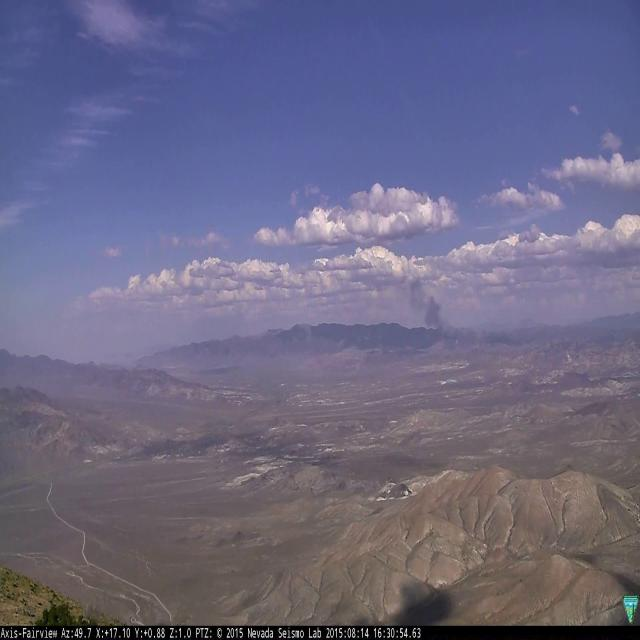smoke: (406, 278, 466, 350)
